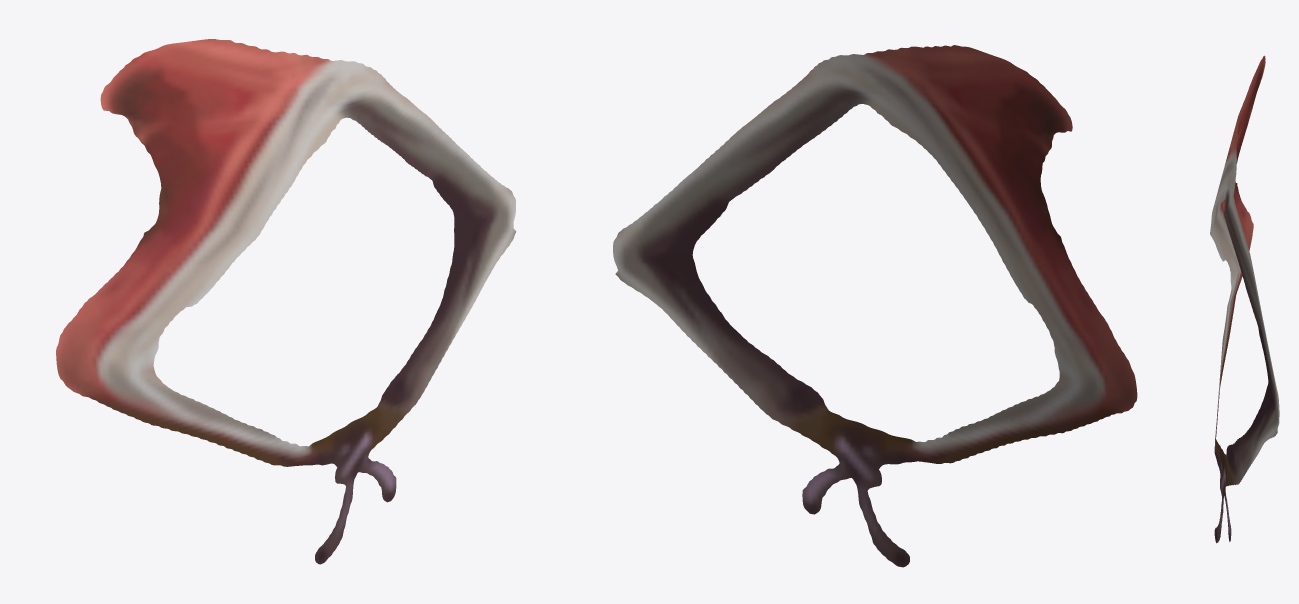
Rendered from Cat Prop Hood.FBX.
3 renders of one model, left to right at view 1: azimuth 30°, elevation 25°; view 2: azimuth 150°, elevation 25°; view 3: azimuth 270°, elevation 25°, orthographic. The views are drawn at different scales.
Parts seen in each view (by area): view 1: Cat Prop Hood; view 2: Cat Prop Hood; view 3: Cat Prop Hood.
Boxes of the visible parts, x1,y1,x2,y2 form: Cat Prop Hood: (56, 39, 516, 564); Cat Prop Hood: (613, 45, 1137, 567); Cat Prop Hood: (1210, 55, 1279, 543).
Bounding box in the file's own units: 101 × 17.02 × 100.
